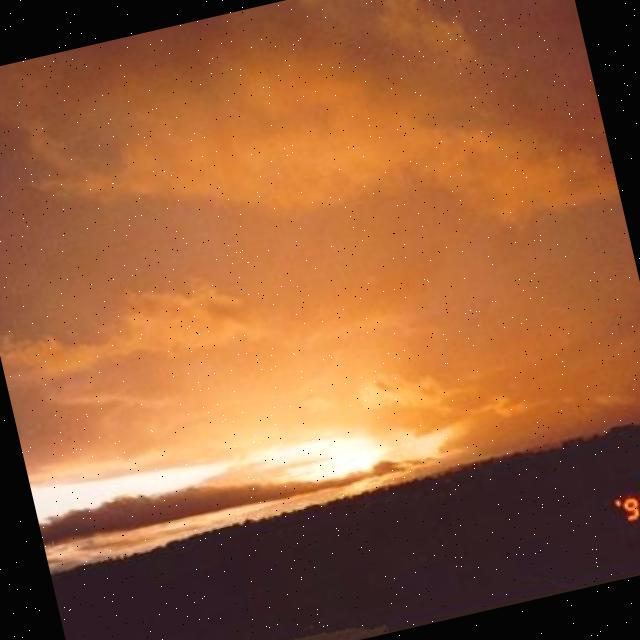Ns: (1, 1, 640, 536)
